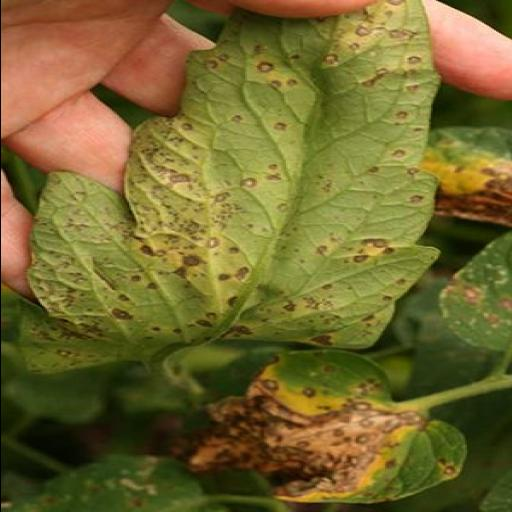disease_tomato: (0, 0, 446, 373), (183, 344, 468, 506)
